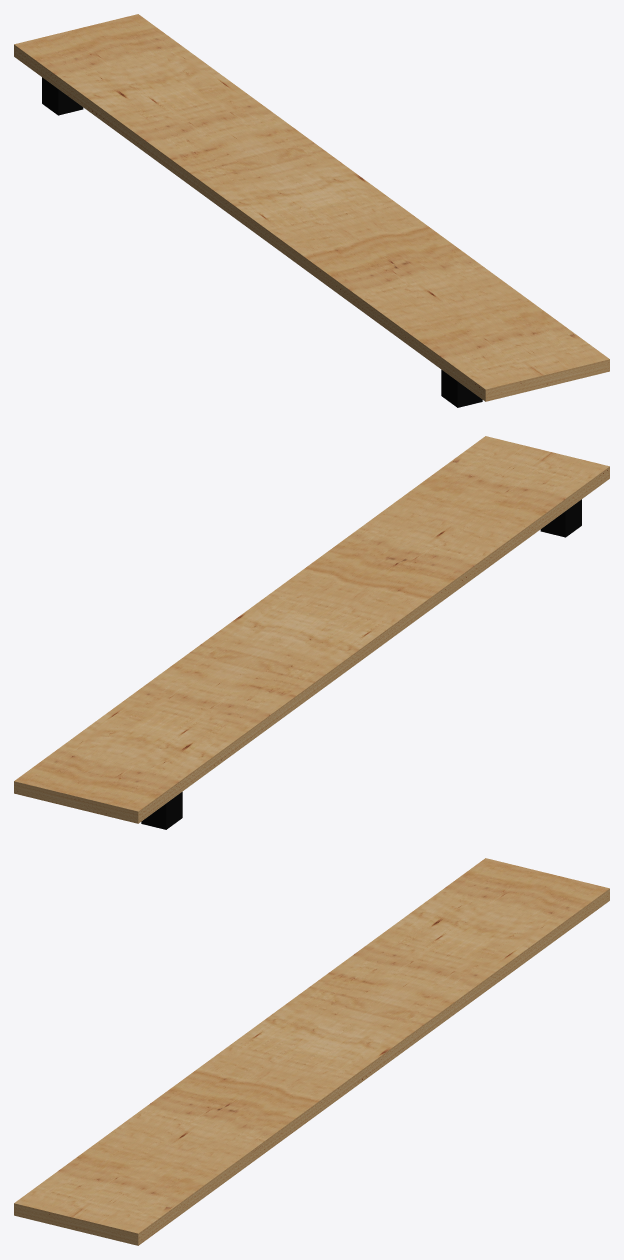
Rendered from Shelf.fbx.
3 views of the same model, one above another, from view 1: azimuth 30°, elevation 25°; view 2: azimuth 150°, elevation 25°; view 3: azimuth 330°, elevation 25° (orthographic).
Parts seen in each view (by area): view 1: pCube1; view 2: pCube1; view 3: pCube1.
Part boxes in pixels (left/top/right/bottom): pCube1: left=14, top=14, right=609, bottom=407; pCube1: left=14, top=436, right=609, bottom=829; pCube1: left=14, top=858, right=609, bottom=1245.
Size of the model in its own units: 0.6481 by 0.1935 by 4.26.
2 materials, 1 textured.
